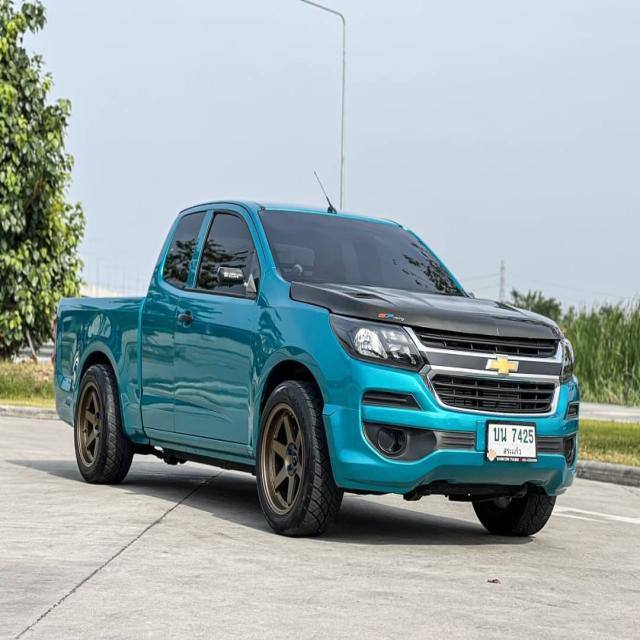license_plate: (486, 421, 539, 464)
